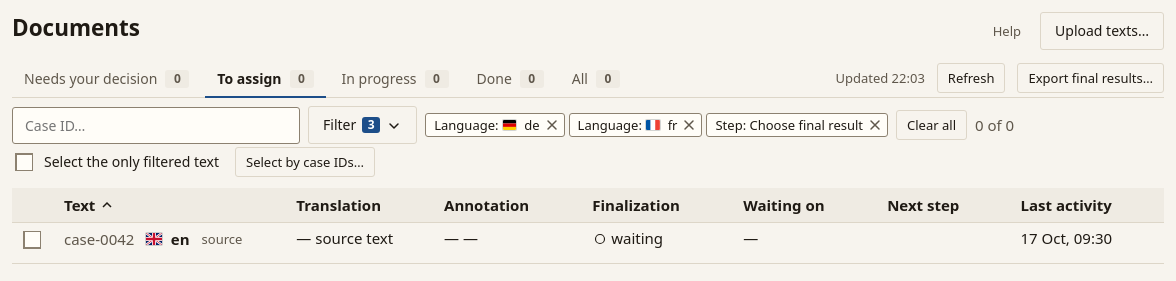
Test case: chip removal moves focus to the next chip or the search field
This screenshot has width=1176, height=281.
Click the button "Language: fr": (636, 125) [569,113,702,137]
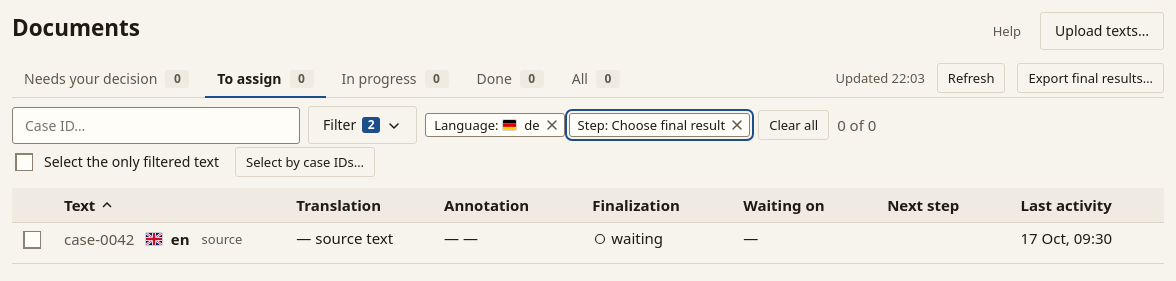
Click the button "Step: Choose final result": (659, 125) [569,113,750,137]
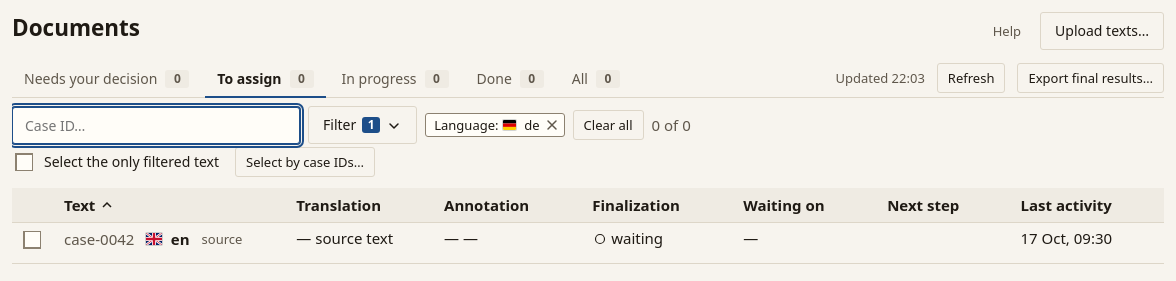
Expected: the buttons "Remove filter " read "Language: de", in this order, [425,113,565,137]
Clear all removes every filter and the search, not the tab or the order.
In the search field named "Search by case ID": (156, 125) [12,106,300,144], type "case"
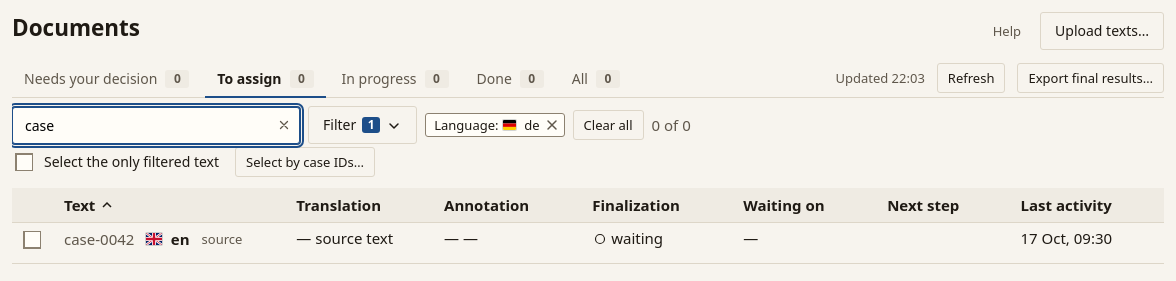
Press Enter in the search field named "Search by case ID", box [12,106,300,144]
Click the button "Clear all": (608, 125) [573,110,644,140]
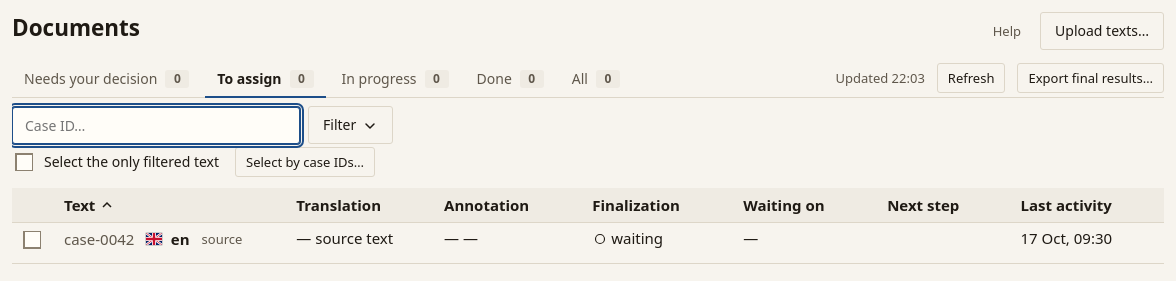
Expected: the search field named "Search by case ID" is empty, [12,106,300,144]
Expected: the button "Clear all" is gone
